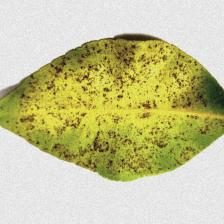canker: (53, 59, 188, 153)
